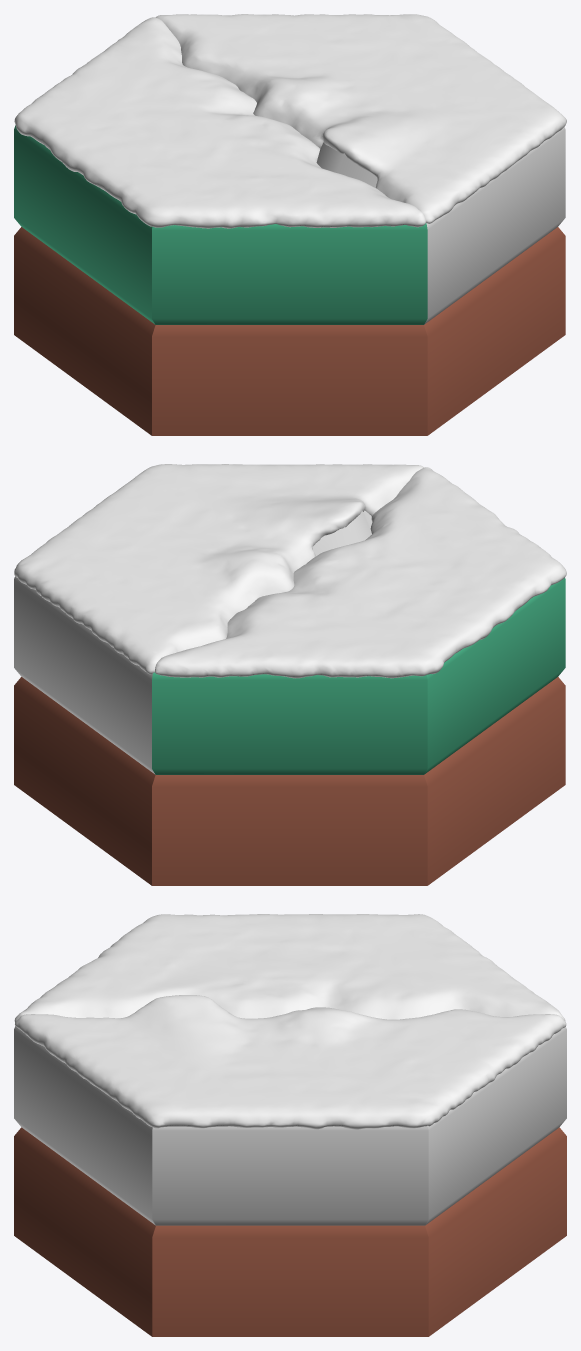
Rendered from snow_hex_forest_transitionA.fbx.
The picture shows the model from 3 angles, top to bottom: view 1: azimuth 30°, elevation 25°; view 2: azimuth 150°, elevation 25°; view 3: azimuth 270°, elevation 25°; orthographic projection.
Parts seen in each view (by area): view 1: hex_forest_transitionB.002, SnowBall.002, SnowBall.001, hex_forest_transitionB, hex_forest_transitionB.001; view 2: hex_forest_transitionB.002, SnowBall.002, SnowBall.001, hex_forest_transitionB, hex_forest_transitionB.001; view 3: hex_forest_transitionB.002, hex_forest_transitionB.001, SnowBall.002, SnowBall.001.
Part boxes in pixels (x1=…): hex_forest_transitionB.002: x1=14, y1=227, x2=565, y2=435; SnowBall.002: x1=156, y1=14, x2=566, y2=223; SnowBall.001: x1=14, y1=17, x2=425, y2=228; hex_forest_transitionB: x1=14, y1=125, x2=427, y2=324; hex_forest_transitionB.001: x1=316, y1=127, x2=565, y2=324; hex_forest_transitionB.002: x1=14, y1=677, x2=565, y2=885; SnowBall.002: x1=14, y1=464, x2=423, y2=674; SnowBall.001: x1=155, y1=467, x2=566, y2=678; hex_forest_transitionB: x1=152, y1=578, x2=565, y2=774; hex_forest_transitionB.001: x1=14, y1=510, x2=372, y2=774; hex_forest_transitionB.002: x1=14, y1=1127, x2=566, y2=1336; hex_forest_transitionB.001: x1=14, y1=1026, x2=566, y2=1225; SnowBall.002: x1=15, y1=995, x2=566, y2=1129; SnowBall.001: x1=14, y1=914, x2=565, y2=1021.
Size of the model in its own units: 204 by 110 by 231.
